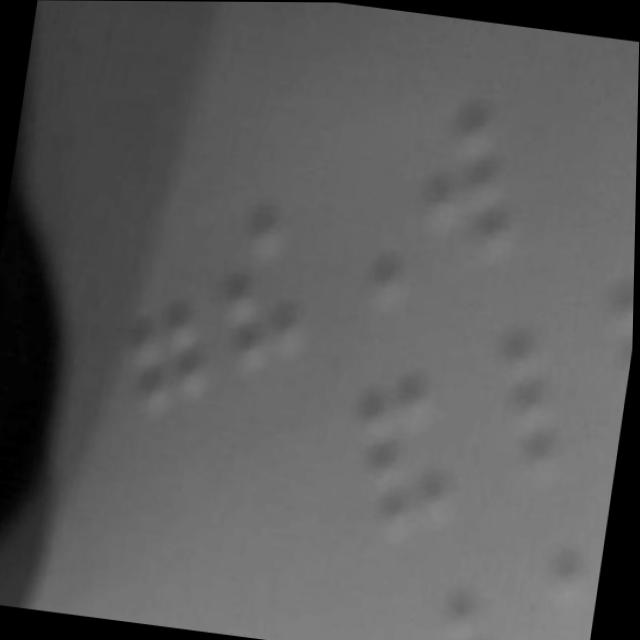braiile: (85, 220, 231, 423), (340, 369, 477, 540), (409, 95, 539, 272), (209, 197, 325, 381), (456, 321, 584, 482)
